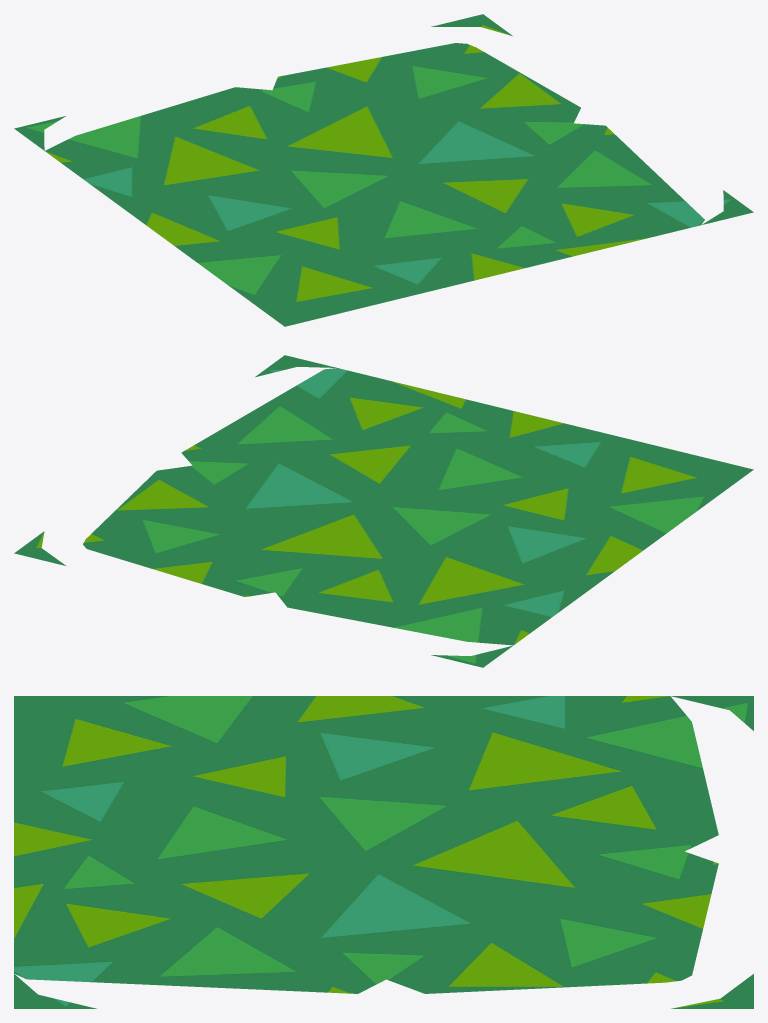
File: Grass Corner Outer F.fbx
The picture shows the model from 3 angles, top to bottom: view 1: azimuth 30°, elevation 25°; view 2: azimuth 150°, elevation 25°; view 3: azimuth 270°, elevation 25°; orthographic projection. The views are drawn at different scales.
Visible parts, largest first — view 1: Grass.Corner.Outer, Grass.Corner.Fill.BR, Grass.Corner.Fill.TL, Grass.Corner.Fill.BL, Grass.Corner.Fill.TR; view 2: Grass.Corner.Outer, Grass.Corner.Fill.BR, Grass.Corner.Fill.TL, Grass.Corner.Fill.BL, Grass.Corner.Fill.TR; view 3: Grass.Corner.Outer, Grass.Corner.Fill.BL, Grass.Corner.Fill.BR, Grass.Corner.Fill.TL, Grass.Corner.Fill.TR.
Boxes of the visible parts, x1,y1,x2,y2 form: Grass.Corner.Outer: (45, 43, 704, 313); Grass.Corner.Fill.BR: (14, 116, 65, 150); Grass.Corner.Fill.TL: (702, 190, 753, 224); Grass.Corner.Fill.BL: (431, 14, 512, 35); Grass.Corner.Fill.TR: (255, 305, 336, 326); Grass.Corner.Outer: (83, 368, 726, 645); Grass.Corner.Fill.BR: (431, 645, 512, 667); Grass.Corner.Fill.TL: (255, 355, 336, 377); Grass.Corner.Fill.BL: (14, 531, 65, 565); Grass.Corner.Fill.TR: (702, 457, 753, 491); Grass.Corner.Outer: (14, 696, 718, 993); Grass.Corner.Fill.BL: (671, 974, 753, 1008); Grass.Corner.Fill.BR: (671, 696, 753, 730); Grass.Corner.Fill.TL: (14, 974, 96, 1008); Grass.Corner.Fill.TR: (14, 696, 96, 730).
Bounding box in the file's own units: 200 × 3.26e-05 × 200.
